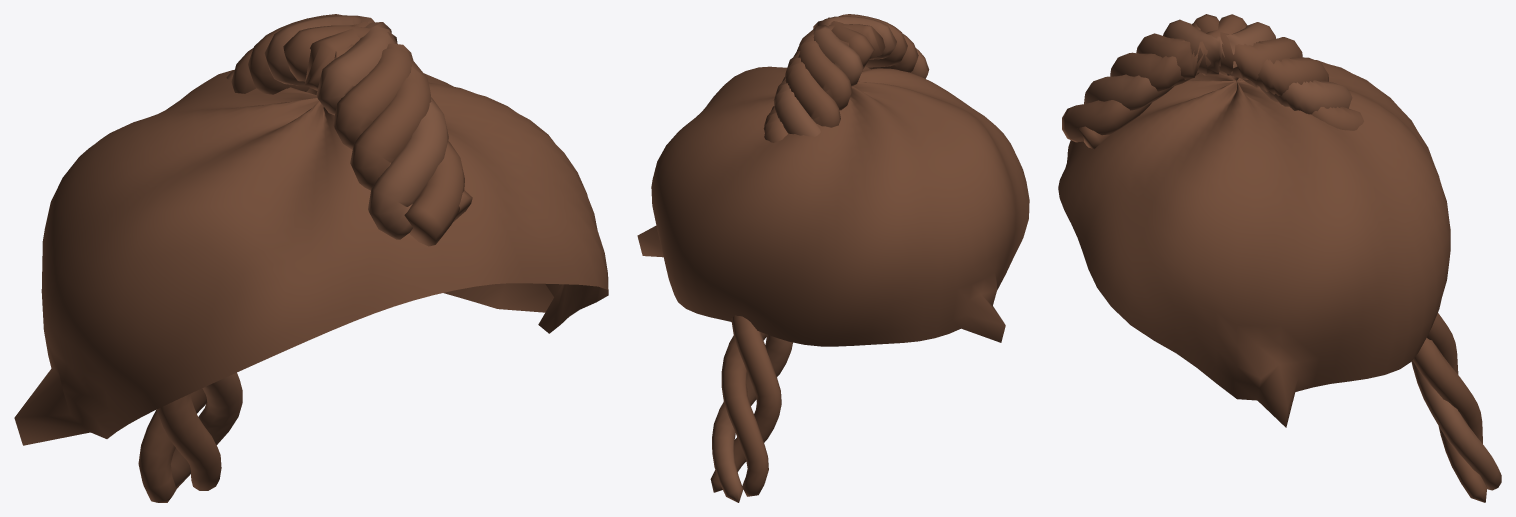
3 views of the same model, side by side, from view 1: azimuth 30°, elevation 25°; view 2: azimuth 150°, elevation 25°; view 3: azimuth 270°, elevation 25° (orthographic). The views are drawn at different scales.
Visible parts, largest first — view 1: Warrior Braid; view 2: Warrior Braid; view 3: Warrior Braid.
Boxes of the visible parts, bbox=[...] form: Warrior Braid: bbox=[14, 14, 608, 502]; Warrior Braid: bbox=[637, 14, 1029, 502]; Warrior Braid: bbox=[1058, 14, 1501, 502].
Bounding box in the file's own units: 1.08 × 1.1 × 0.9444.
